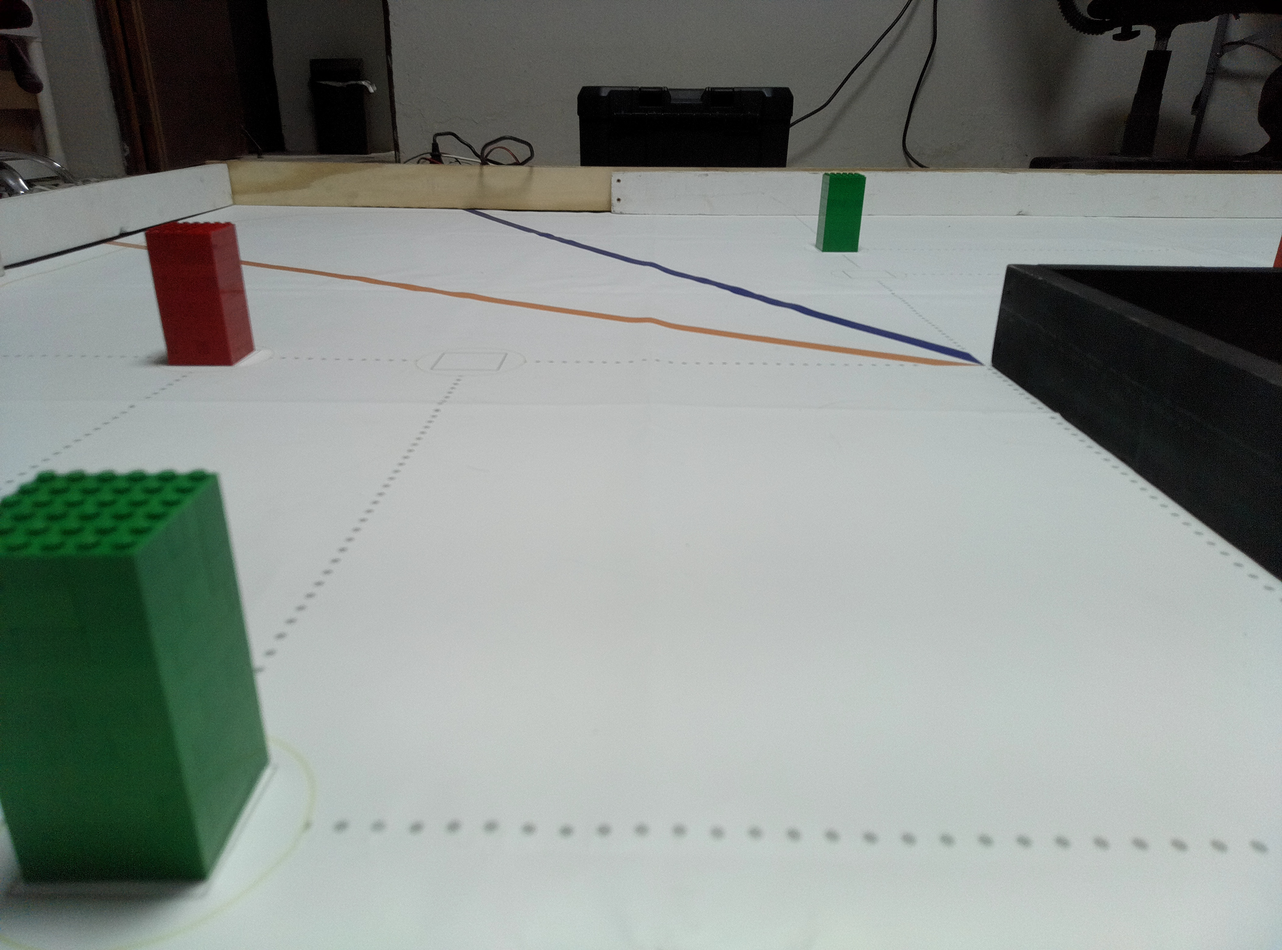greenbox: (0, 467, 273, 887), (815, 172, 867, 253)
redbox: (143, 221, 258, 367), (1268, 232, 1282, 268)
